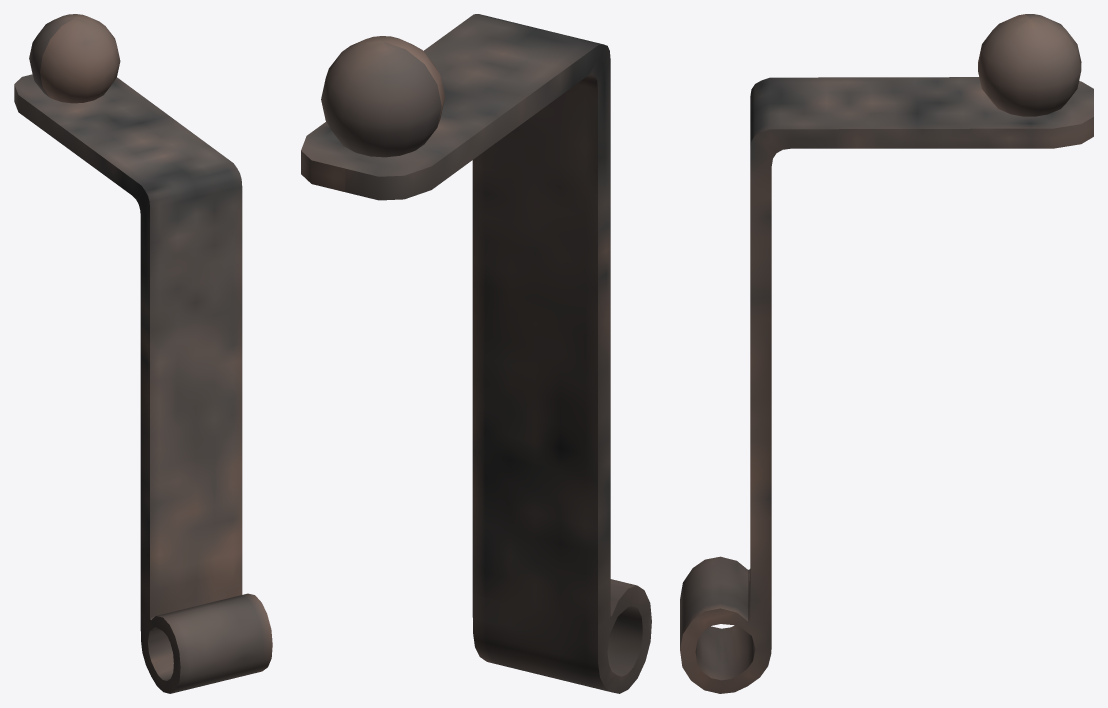
File: SM_Chest_lock.fbx
The picture shows the model from 3 angles, left to right: view 1: azimuth 30°, elevation 25°; view 2: azimuth 150°, elevation 25°; view 3: azimuth 270°, elevation 25°; orthographic projection. The views are drawn at different scales.
Parts seen in each view (by area): view 1: SM_Chest_lock; view 2: SM_Chest_lock; view 3: SM_Chest_lock.
Part boxes in pixels (bbox=[...]): SM_Chest_lock: bbox=[14, 14, 272, 693]; SM_Chest_lock: bbox=[301, 14, 651, 693]; SM_Chest_lock: bbox=[680, 14, 1093, 693].
Bounding box in the file's own units: 0.7112 × 4.16 × 2.4.
1 material, 1 textured.
